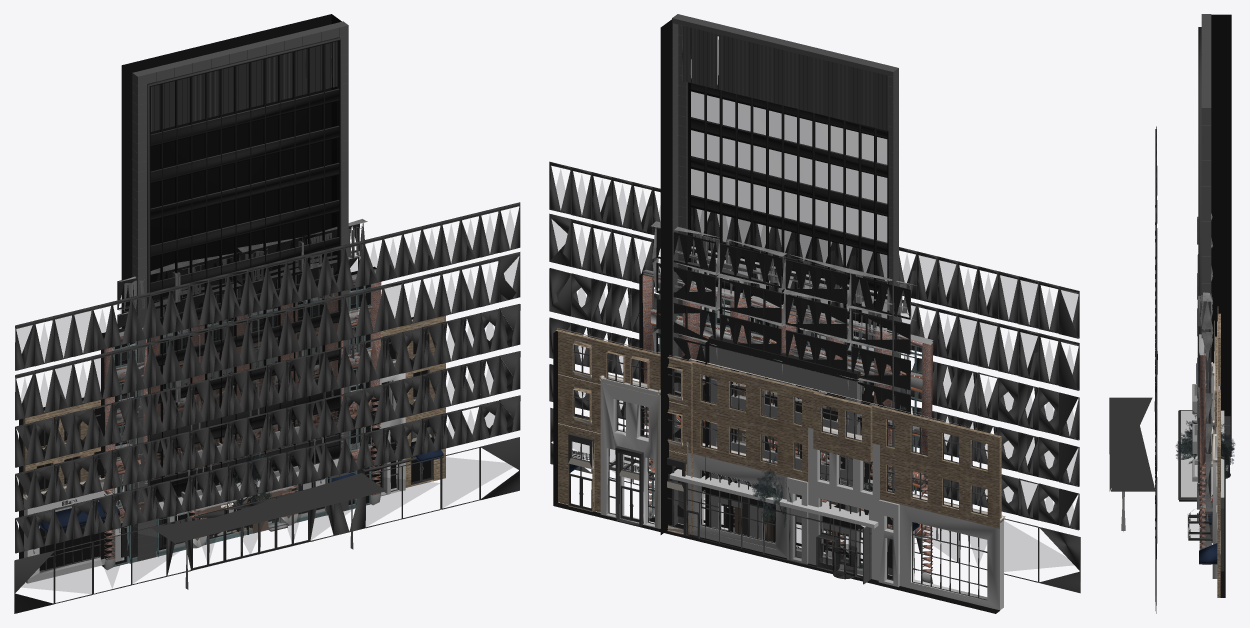
File: street.glb
The picture shows the model from 3 angles, left to right: view 1: azimuth 30°, elevation 25°; view 2: azimuth 150°, elevation 25°; view 3: azimuth 270°, elevation 25°; orthographic projection. The views are drawn at different scales.
Visible parts, largest first — view 1: wP_Facade_F, wP_Facade_G, wP_Facade_D, wP_Facade_E, wP_Facade_A, wP_Facade_B, wP_Facade_C; view 2: wP_Facade_G, wP_Facade_E, wP_Facade_F, wP_Facade_A, wP_Facade_D, wP_Facade_C, wP_Facade_B; view 3: wP_Facade_G, wP_Facade_F, wP_Facade_E, wP_Facade_A, wP_Facade_D, wP_Facade_C, wP_Tree_003, wP_Tree_002, wP_Tree_001.
Part boxes in pixels (x1=…): wP_Facade_F: x1=14, y1=202, x2=520, y2=613; wP_Facade_G: x1=121, y1=14, x2=348, y2=561; wP_Facade_D: x1=101, y1=266, x2=381, y2=570; wP_Facade_E: x1=19, y1=315, x2=445, y2=583; wP_Facade_A: x1=115, y1=219, x2=367, y2=557; wP_Facade_B: x1=192, y1=375, x2=292, y2=540; wP_Facade_C: x1=167, y1=337, x2=311, y2=547; wP_Facade_G: x1=660, y1=14, x2=898, y2=584; wP_Facade_E: x1=553, y1=328, x2=1005, y2=613; wP_Facade_F: x1=549, y1=161, x2=1080, y2=593; wP_Facade_A: x1=651, y1=221, x2=918, y2=572; wP_Facade_D: x1=639, y1=269, x2=933, y2=583; wP_Facade_C: x1=705, y1=335, x2=860, y2=567; wP_Facade_B: x1=728, y1=373, x2=839, y2=555; wP_Facade_G: x1=1178, y1=14, x2=1231, y2=542; wP_Facade_F: x1=1109, y1=126, x2=1157, y2=613; wP_Facade_E: x1=1188, y1=306, x2=1225, y2=597; wP_Facade_A: x1=1197, y1=213, x2=1213, y2=548; wP_Facade_D: x1=1199, y1=334, x2=1210, y2=564; wP_Facade_C: x1=1192, y1=302, x2=1217, y2=481; wP_Tree_003: x1=1175, y1=423, x2=1234, y2=478; wP_Tree_002: x1=1180, y1=411, x2=1234, y2=473; wP_Tree_001: x1=1181, y1=420, x2=1233, y2=477.
Bounding box in the file's own units: 52.47 × 48.03 × 12.41.
68 materials, 9 textured.
